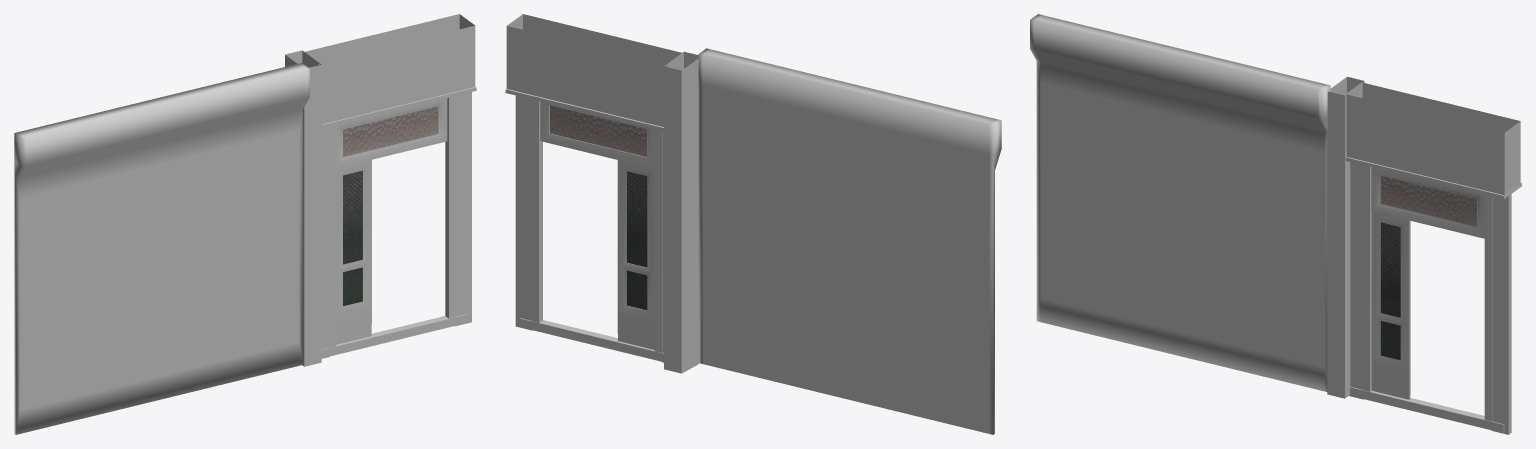
Rendered from Shop_Enter31a.fbx.
3 renders of one model, left to right at view 1: azimuth 30°, elevation 25°; view 2: azimuth 150°, elevation 25°; view 3: azimuth 330°, elevation 25°, orthographic. The views are drawn at different scales.
Visible parts, largest first — view 1: Shop_Enter31a; view 2: Shop_Enter31a; view 3: Shop_Enter31a.
Boxes of the visible parts, <box> form: Shop_Enter31a: <box>14,14,476,434</box>; Shop_Enter31a: <box>505,14,1001,434</box>; Shop_Enter31a: <box>1030,14,1521,434</box>.
Size of the model in its own units: 5.3 by 3.34 by 0.4906.
